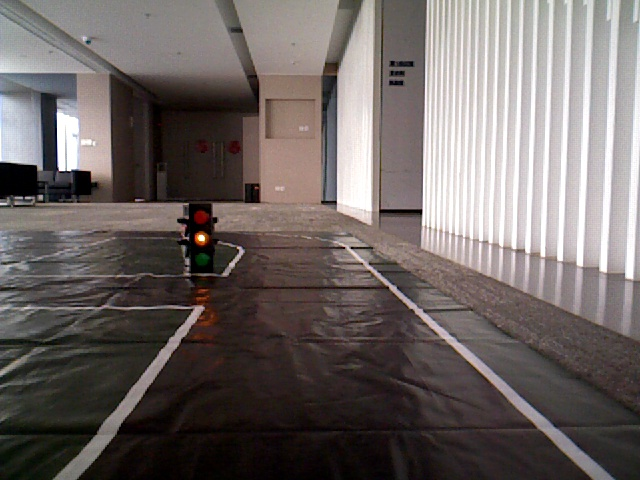yellow: (185, 206, 212, 265)
